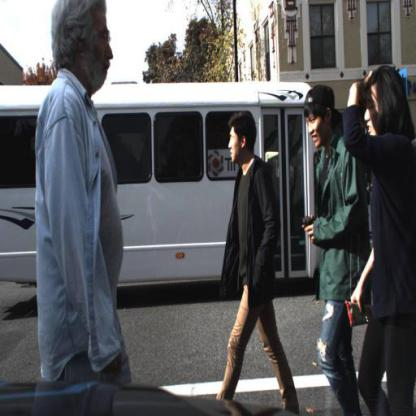pedestrian: (26, 1, 130, 416), (38, 3, 130, 403), (212, 98, 293, 409), (347, 66, 416, 412), (406, 167, 416, 231)
truck: (1, 82, 373, 312)
